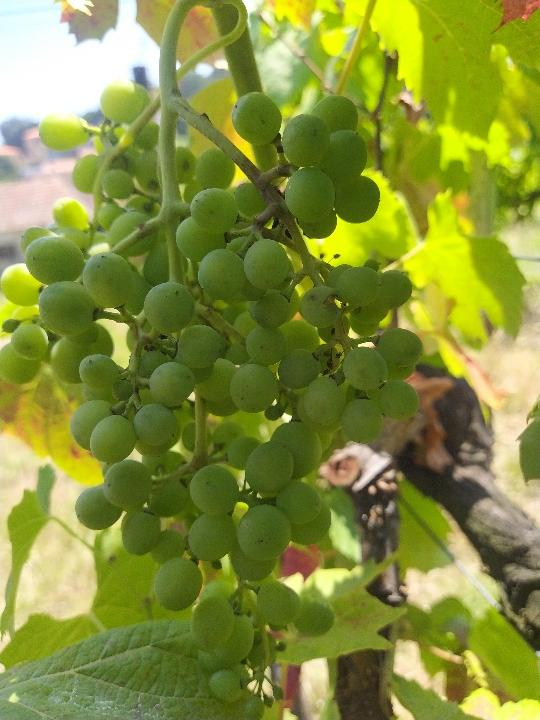grape: (1, 78, 424, 715)
